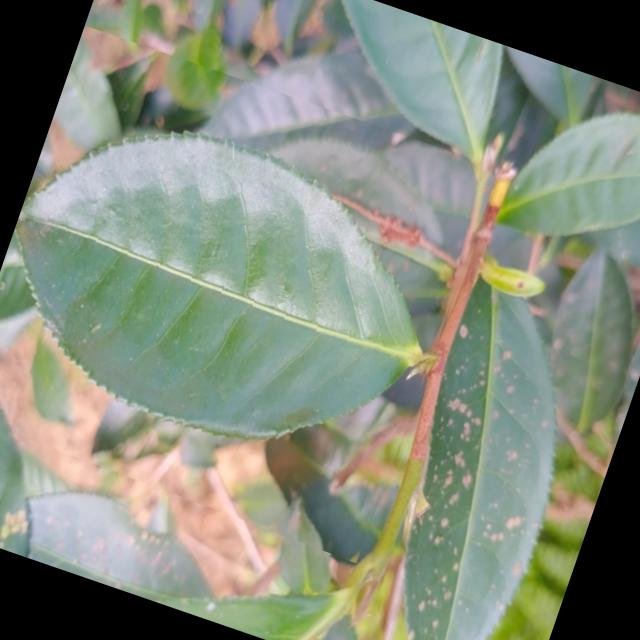Category D(7+ days, Not for Tea): (0, 24, 500, 565)
